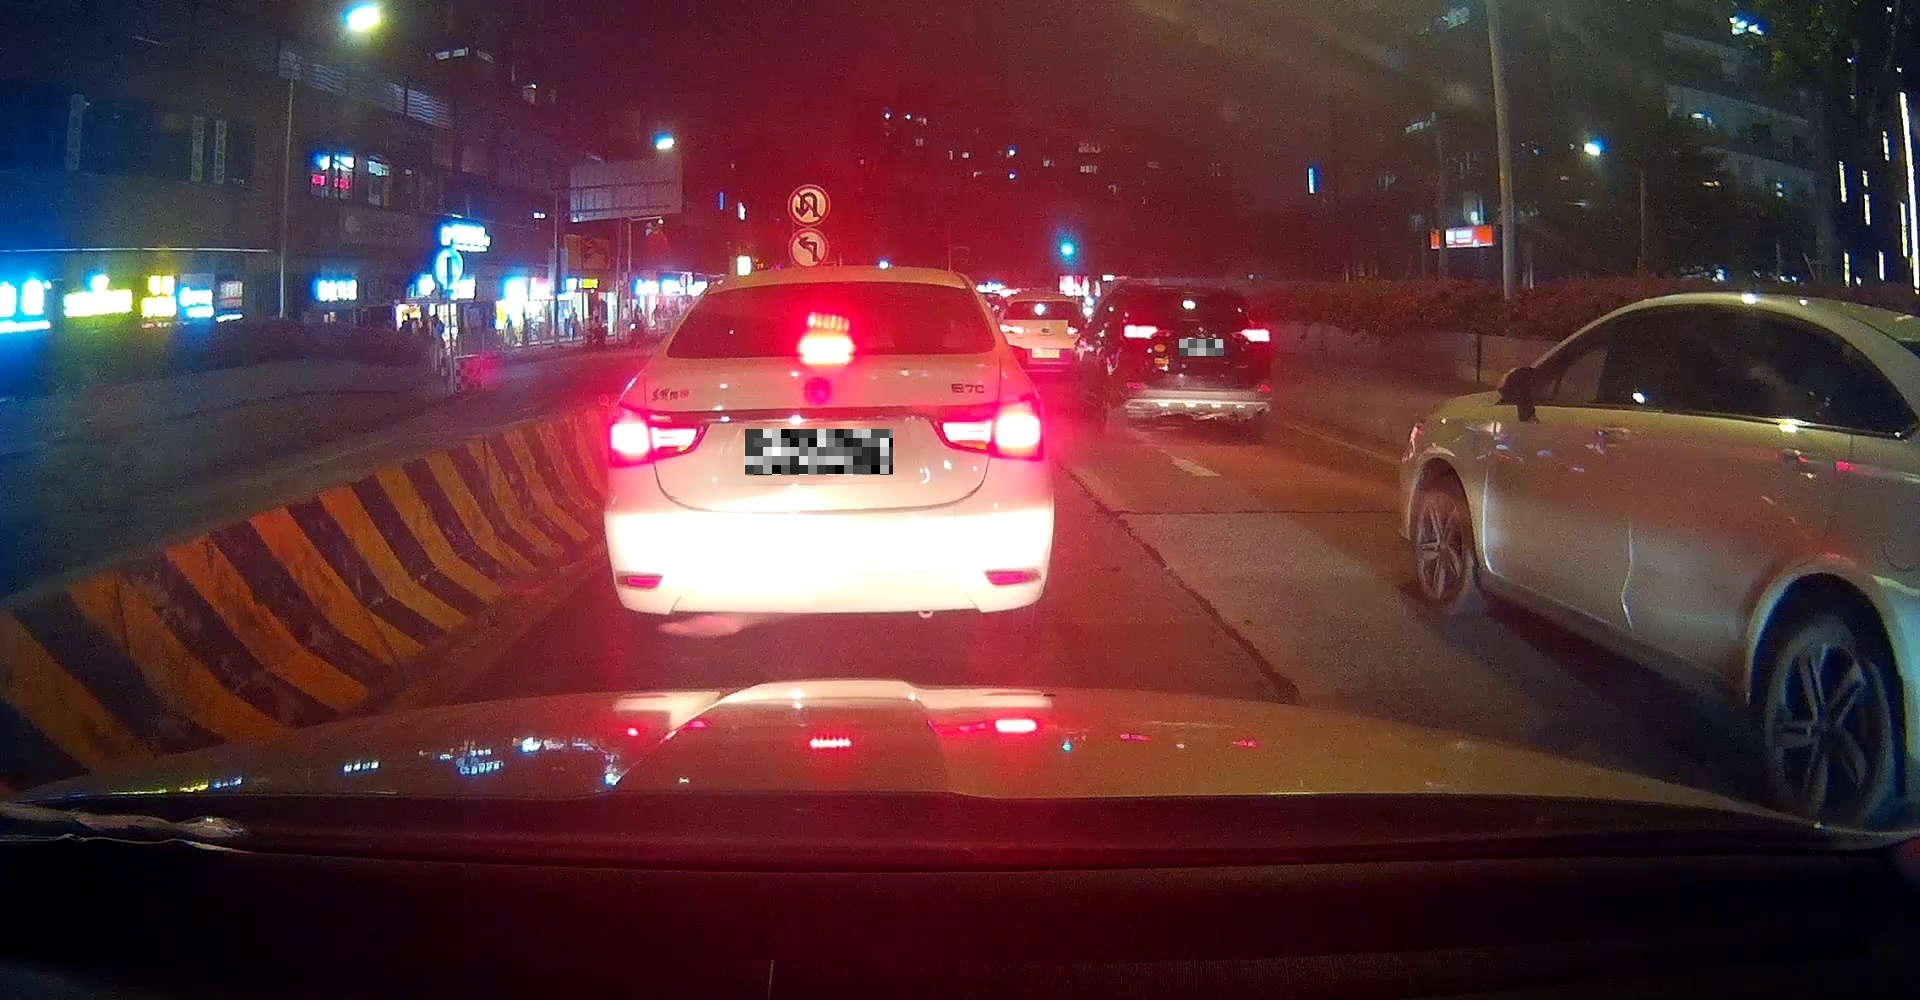L_light: (607, 401, 709, 467), (1123, 324, 1158, 338)
R_light: (928, 390, 1045, 464), (1237, 327, 1270, 343)
T_light: (795, 335, 853, 354), (1170, 292, 1192, 299)
night-brake: (603, 266, 1055, 654)
night-no: (1119, 284, 1274, 442)
plate_1: (745, 429, 893, 475)
plate_2: (1178, 339, 1223, 357)
